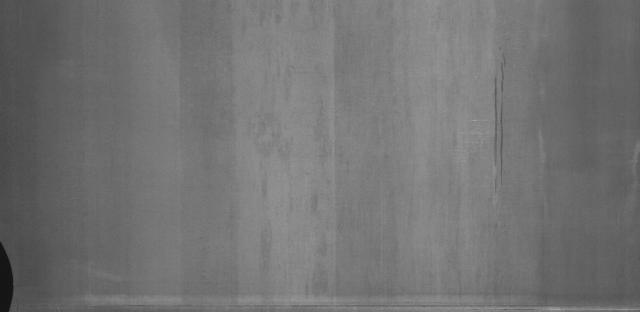welding_line: (11, 298, 640, 311)
